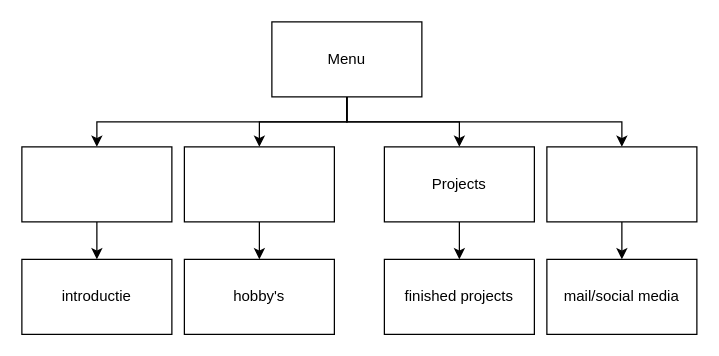
The diagram is 719 pixels wide and 356 high, and some of its shapes have lost their labels. Here are the shapes that lost their labels. From the top down, the centre of each, then its label:
pixel 96 184: About
pixel 258 184: Intrests
pixel 621 184: Contacts
